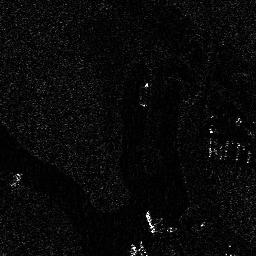ship: (145, 209, 155, 234)
